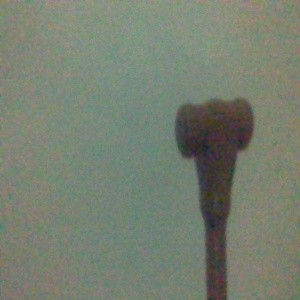palu: (173, 95, 256, 300)
